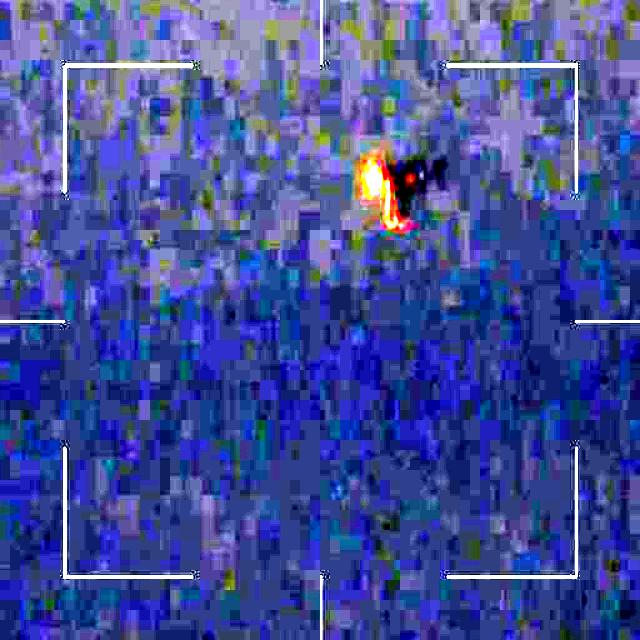bird: (352, 151, 434, 254)
